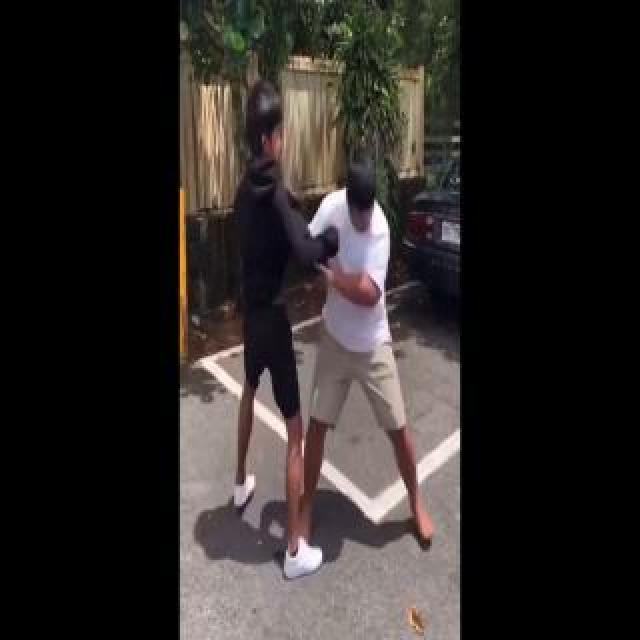fight: (208, 61, 446, 571)
